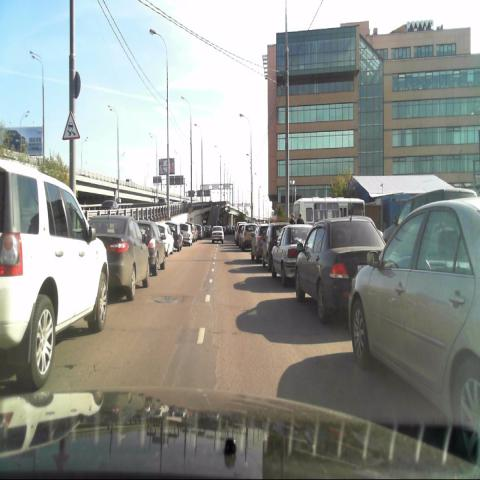1_15: (60, 111, 82, 140)
